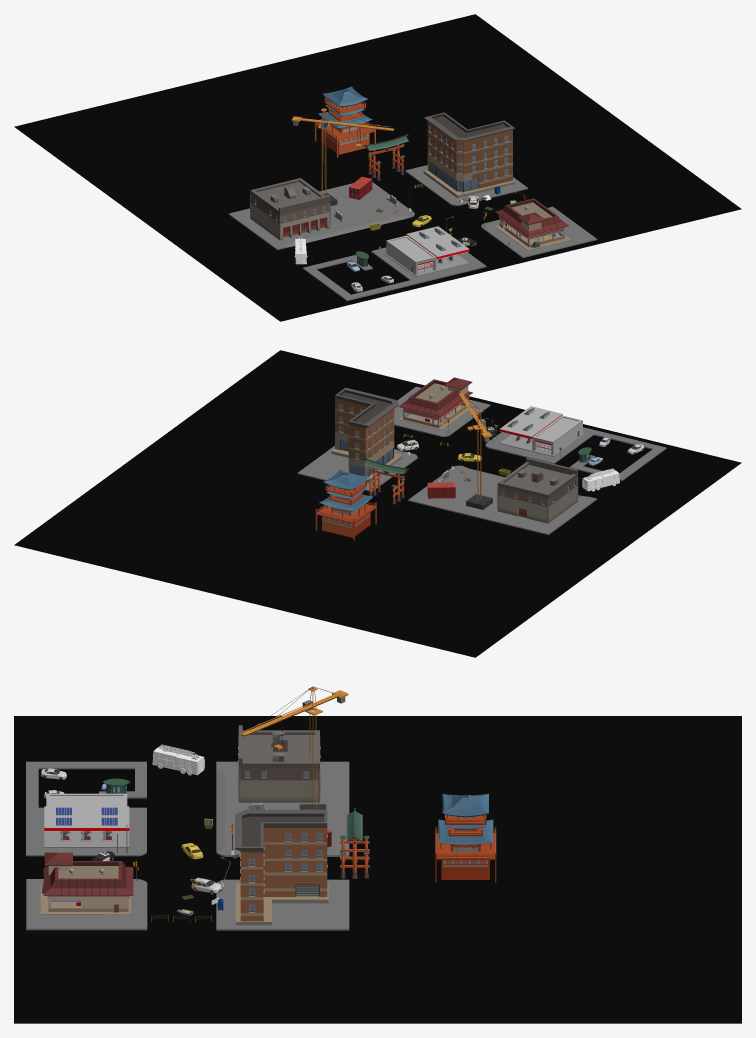
The model's file is city.glb.
3 views of the same model, one above another, from view 1: azimuth 30°, elevation 25°; view 2: azimuth 150°, elevation 25°; view 3: azimuth 270°, elevation 25° (orthographic). The views are drawn at different scales.
Parts seen in each view (by area): view 1: Plane, base.443, Cube.003, base.451, base.438, base.433, base.450, Cube, Cube.001, Cube.002, base.500, windowRefl.276 (+1 smaller); view 2: Plane, base.443, base.451, Cube.003, base.433, base.438, base.450, Cube, Cube.002, Cube.001, base.500, base.419 (+2 smaller); view 3: Plane, base.443, base.451, base.450, Cube.003, base.433, base.438, Cube, Cube.002, Cube.001, base.500, base.419 (+2 smaller).
Part boxes in pixels (x1,y1,x2,y2): Plane: [14, 14, 741, 321]; base.443: [423, 112, 515, 198]; Cube.003: [228, 182, 414, 250]; base.451: [250, 178, 330, 240]; base.438: [384, 226, 469, 276]; base.433: [314, 86, 375, 157]; base.450: [495, 198, 570, 250]; Cube: [302, 247, 486, 300]; Cube.001: [481, 206, 597, 257]; Cube.002: [405, 165, 528, 205]; base.500: [291, 108, 394, 205]; windowRefl.276: [429, 126, 507, 191]; Plane: [14, 350, 741, 657]; base.443: [331, 387, 402, 482]; base.451: [497, 457, 578, 523]; Cube.003: [408, 465, 596, 535]; base.433: [315, 469, 376, 540]; base.438: [499, 406, 584, 456]; base.450: [399, 377, 474, 429]; Cube: [485, 427, 666, 480]; Cube.002: [297, 446, 417, 491]; Cube.001: [394, 386, 490, 436]; base.500: [459, 392, 492, 509]; base.419: [364, 457, 409, 504]; Plane: [14, 716, 741, 1023]; base.443: [235, 809, 328, 925]; base.451: [238, 725, 320, 802]; base.450: [40, 852, 133, 914]; Cube.003: [216, 761, 349, 856]; base.433: [435, 793, 496, 882]; base.438: [44, 793, 129, 847]; Cube: [26, 761, 146, 856]; Cube.002: [216, 879, 349, 930]; Cube.001: [26, 879, 147, 930]; base.500: [241, 686, 348, 809]; base.419: [340, 807, 369, 878].
Bounding box in the file's own units: 200 × 42.96 × 200.
